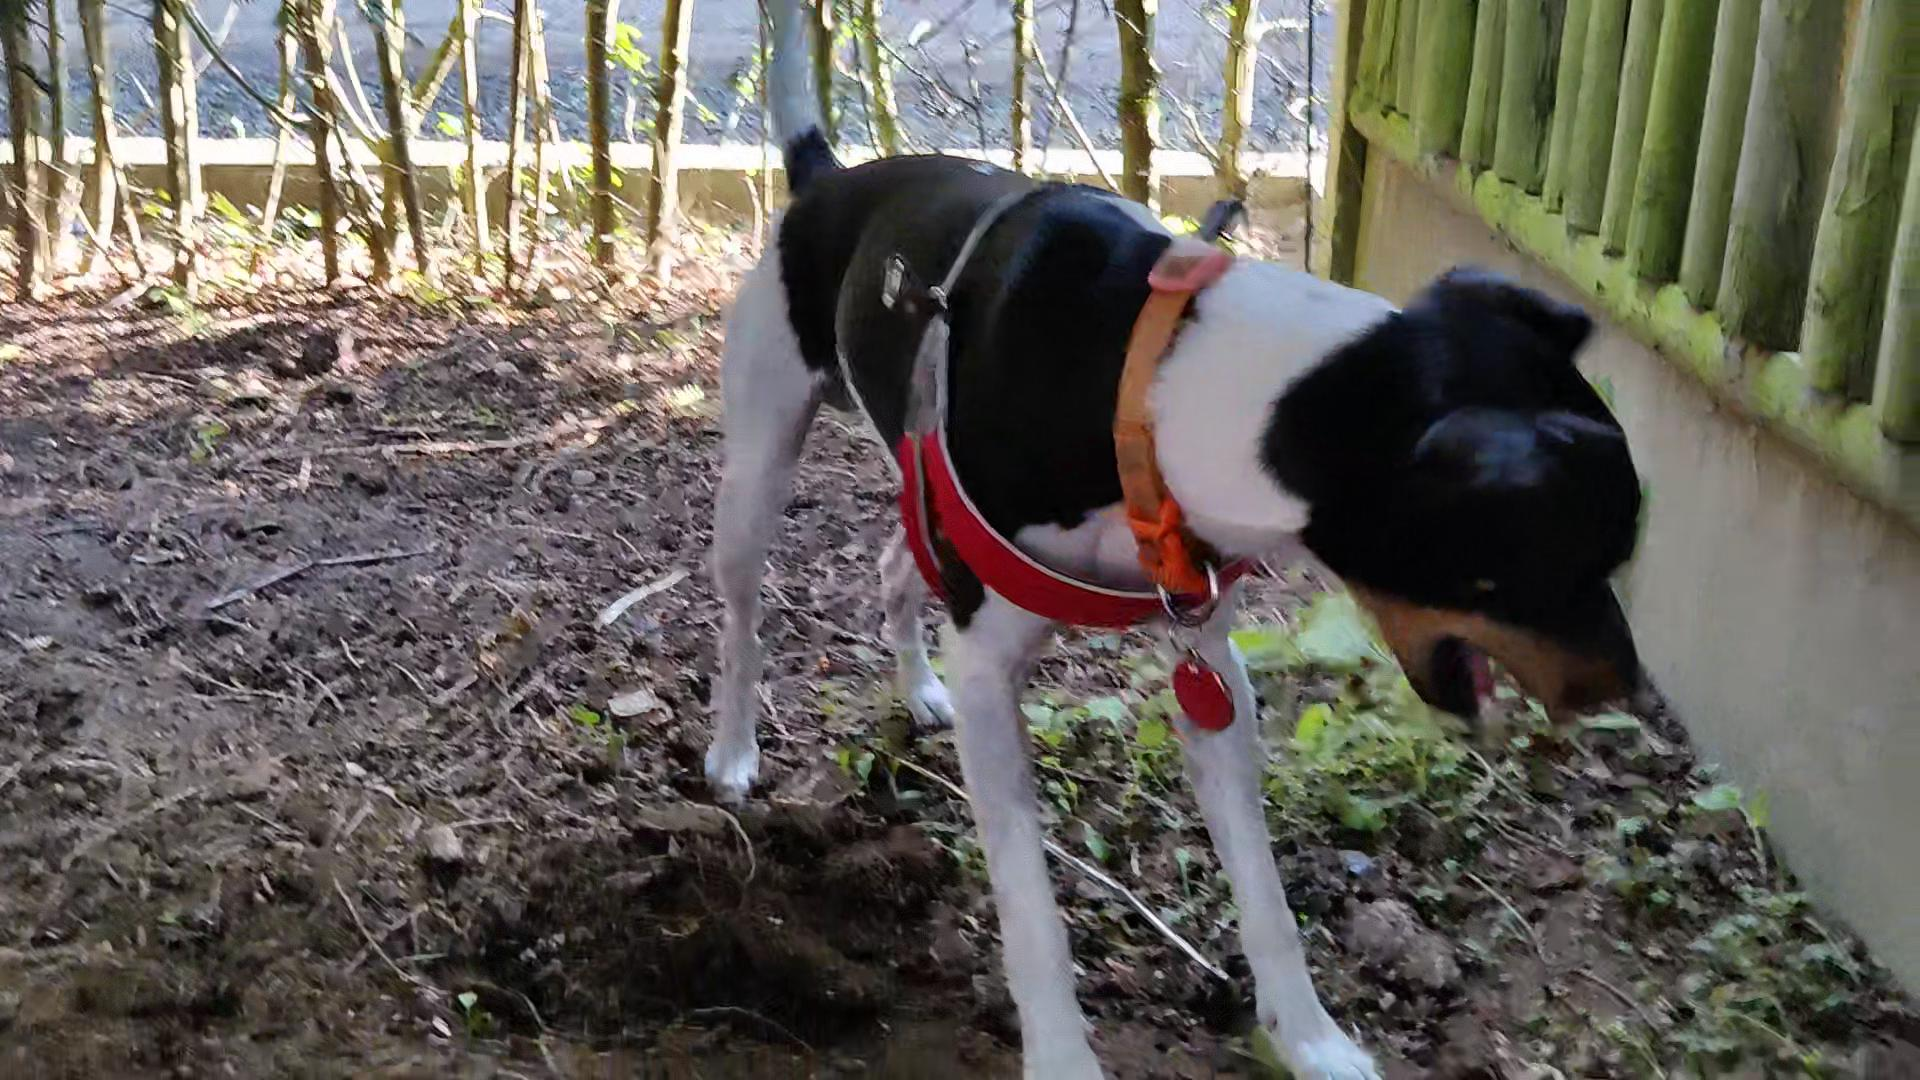Dog: (688, 0, 1663, 1079)
